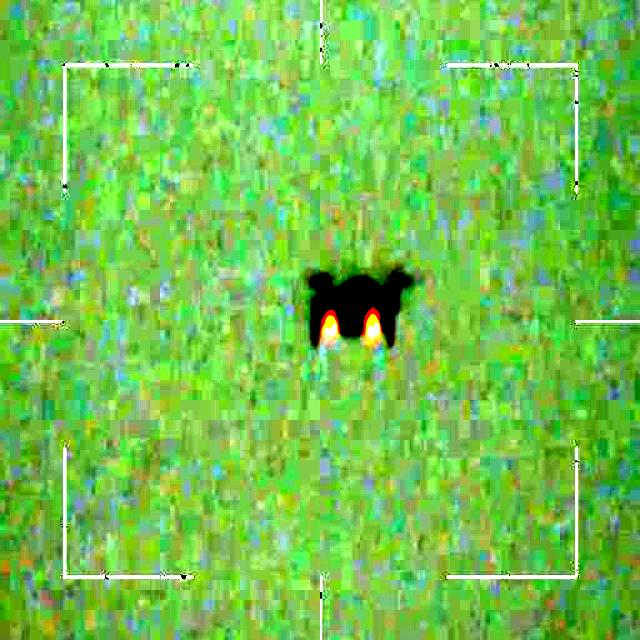bird: (306, 262, 412, 346)
